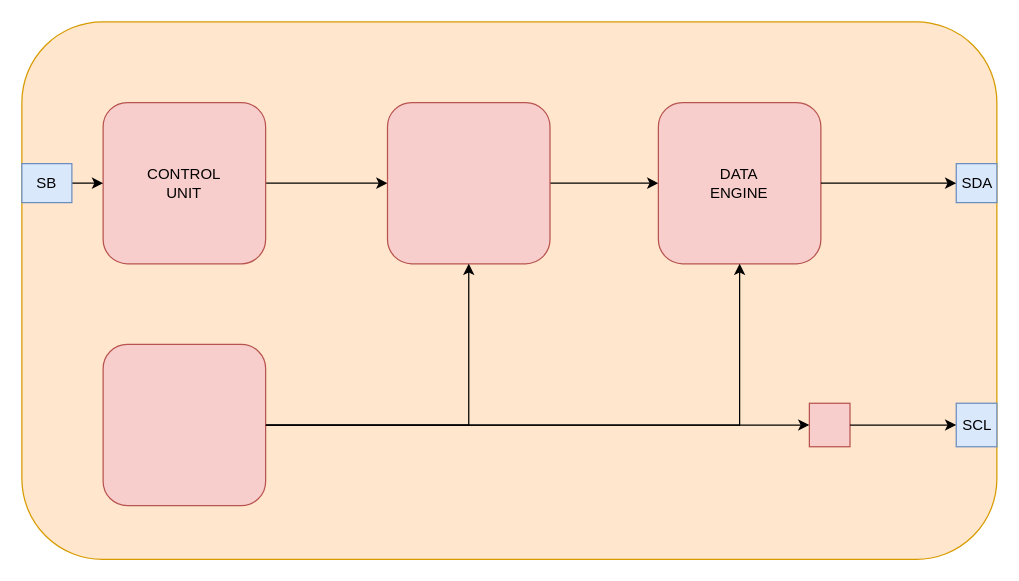
Image size: 1019x581. Some labels were removed from this diagram. Here are the shapes that lost their labels. From the top down, the centre of each, then its label:
point (468, 182): TRANSFER CONTROLLER
point (184, 424): ENABLE GENERATOR
point (829, 424): z -1
